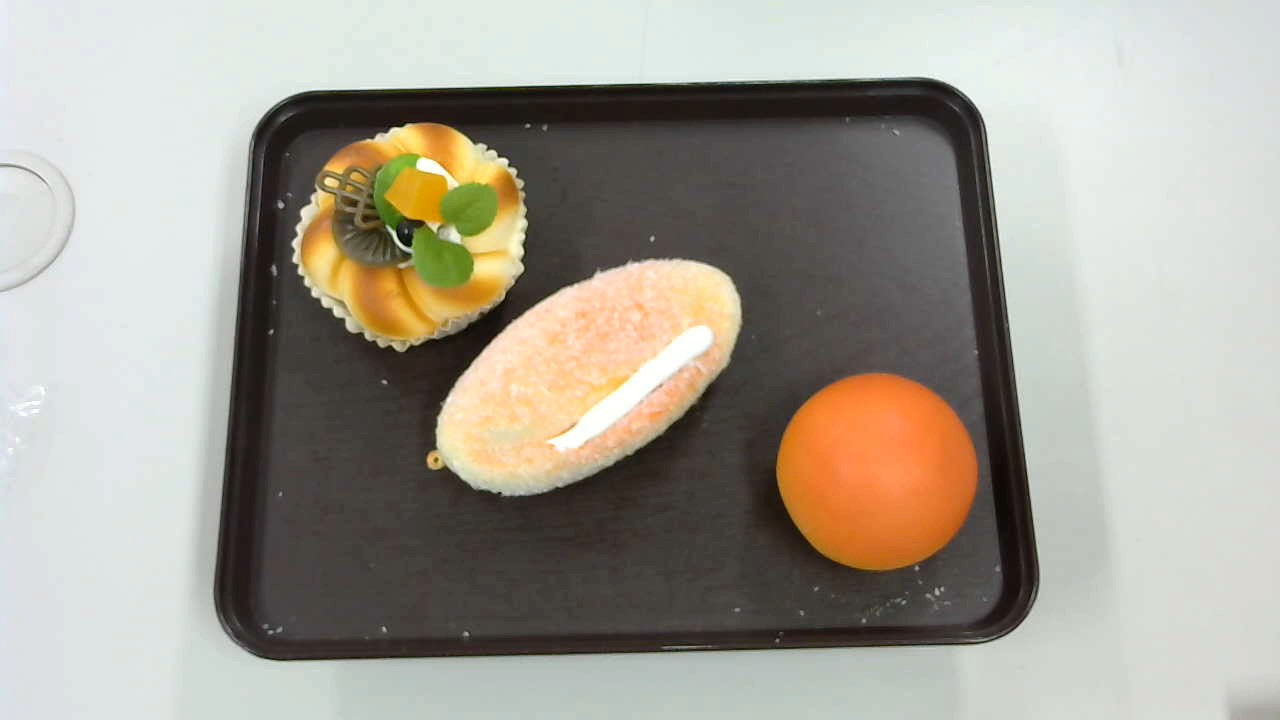bun: (777, 372, 977, 573)
coconut: (425, 257, 742, 497)
fruit tart: (292, 122, 529, 351)
